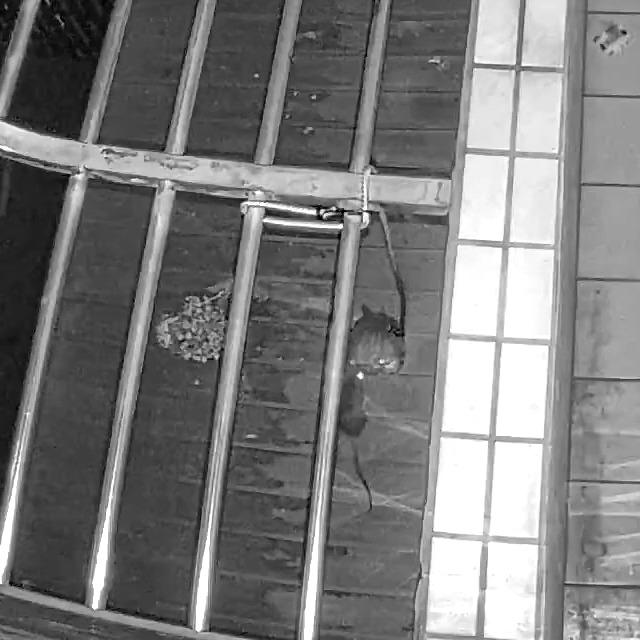rat: (336, 366, 374, 516)
